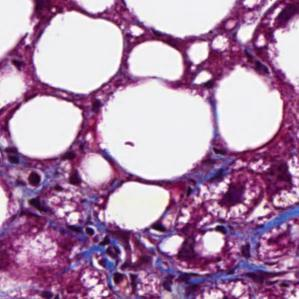inflammation: (81, 230, 157, 293), (0, 147, 84, 196), (204, 172, 265, 220), (143, 267, 219, 299)
